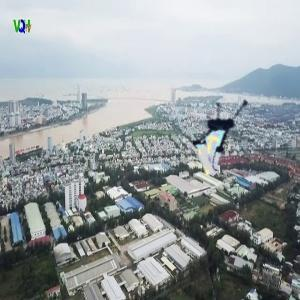drone: (185, 85, 269, 169)
